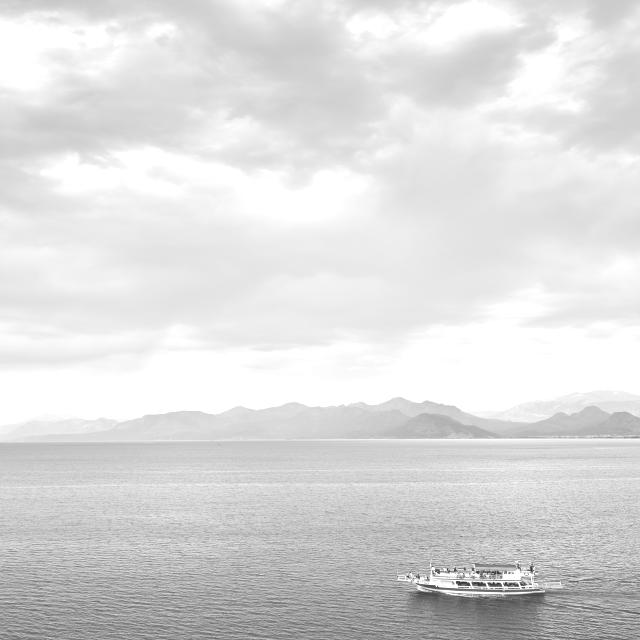ship: (394, 558, 559, 605)
